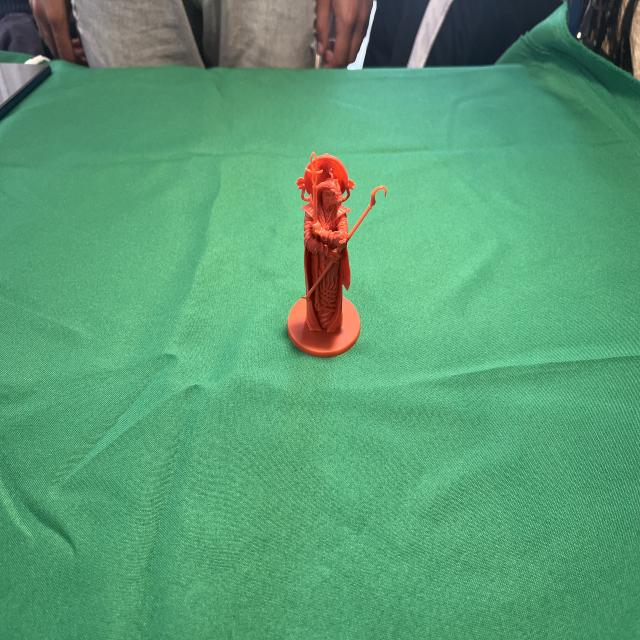amon: (285, 148, 390, 362)
